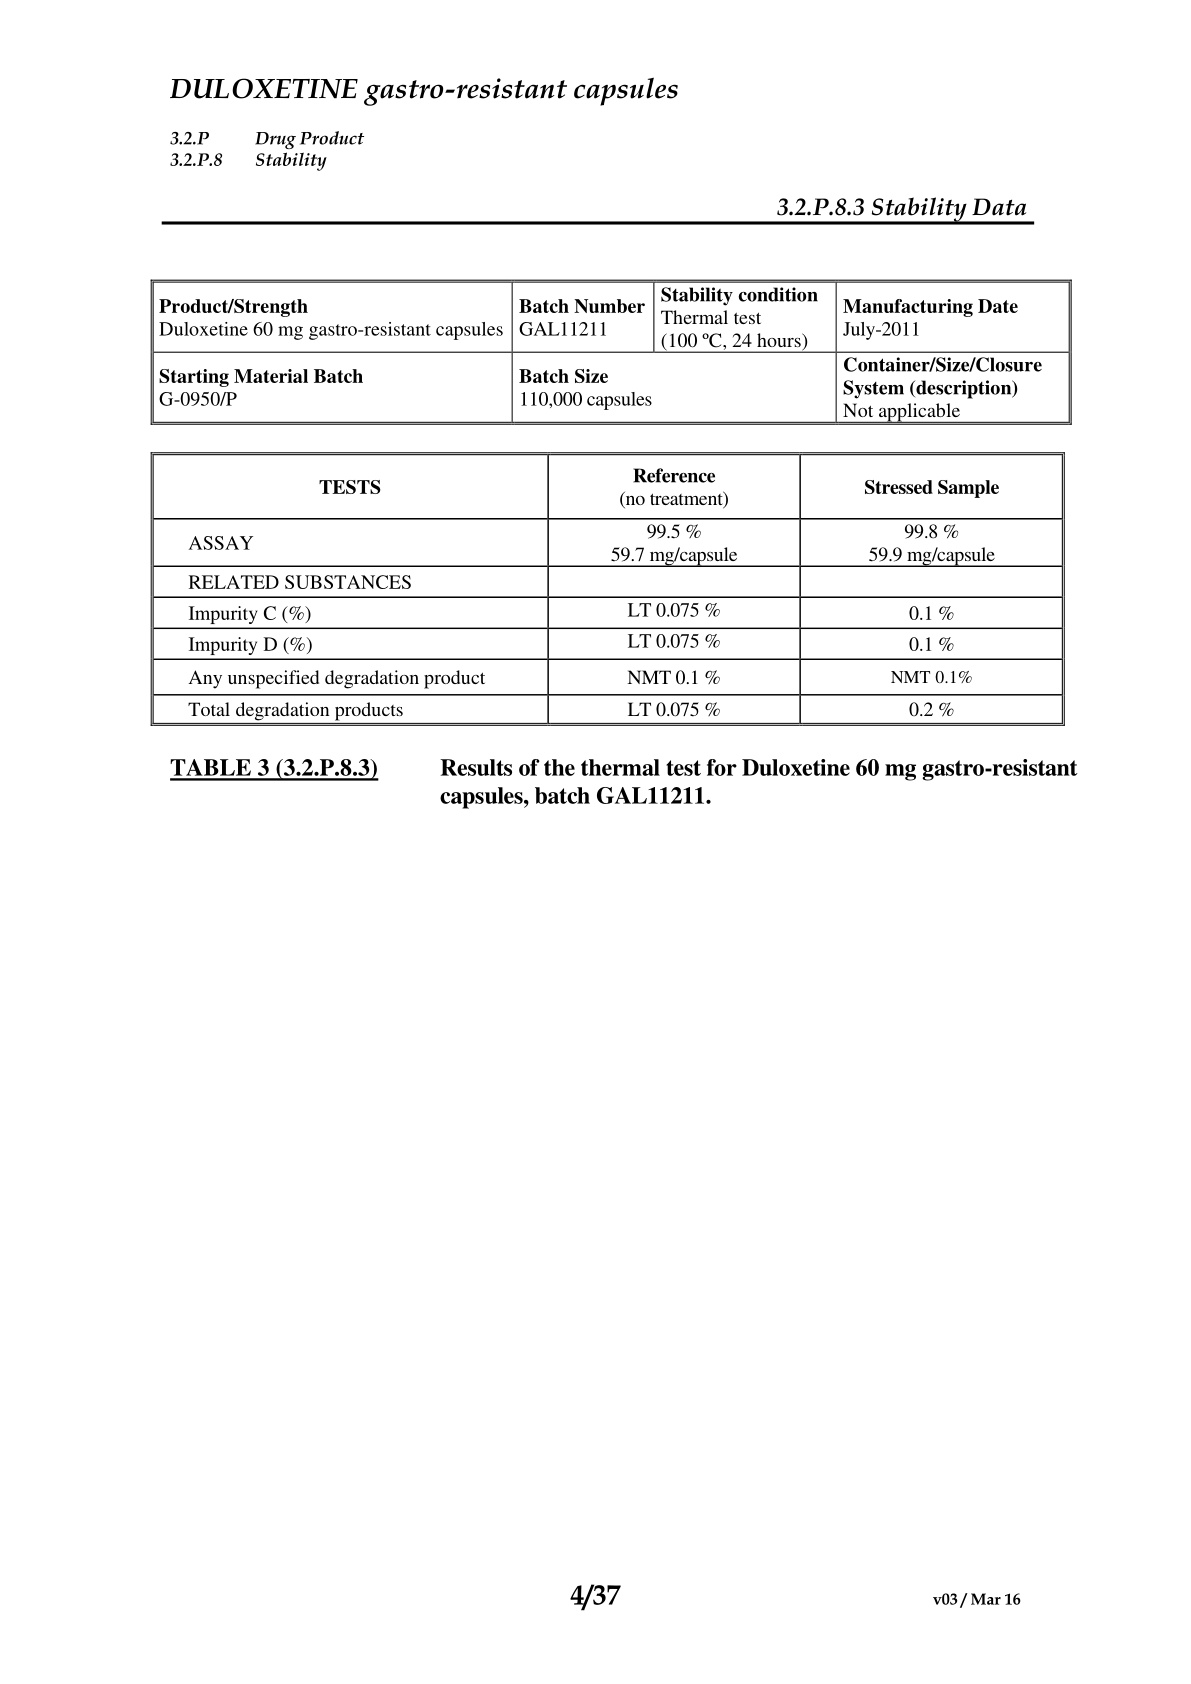full_lined: (150, 451, 1066, 725)
merged_cells: (150, 280, 1072, 426)
